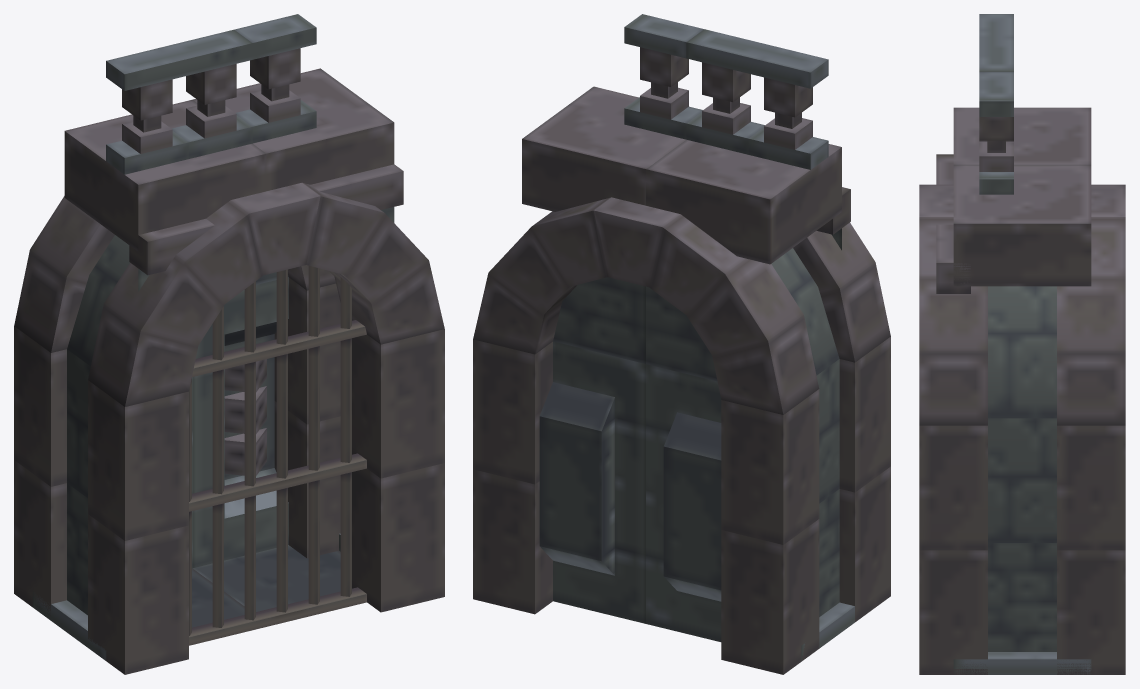
The model's file is wall_bay_1_purple.fbx.
3 renders of one model, left to right at view 1: azimuth 30°, elevation 25°; view 2: azimuth 150°, elevation 25°; view 3: azimuth 270°, elevation 25°, orthographic. The views are drawn at different scales.
Visible parts, largest first — view 1: wall_bay_1_purple; view 2: wall_bay_1_purple; view 3: wall_bay_1_purple.
Part boxes in pixels (left/top/right/bottom): wall_bay_1_purple: left=14, top=14, right=444, bottom=674; wall_bay_1_purple: left=473, top=14, right=890, bottom=674; wall_bay_1_purple: left=919, top=14, right=1125, bottom=674.
Size of the model in its own units: 40 by 68 by 24.
